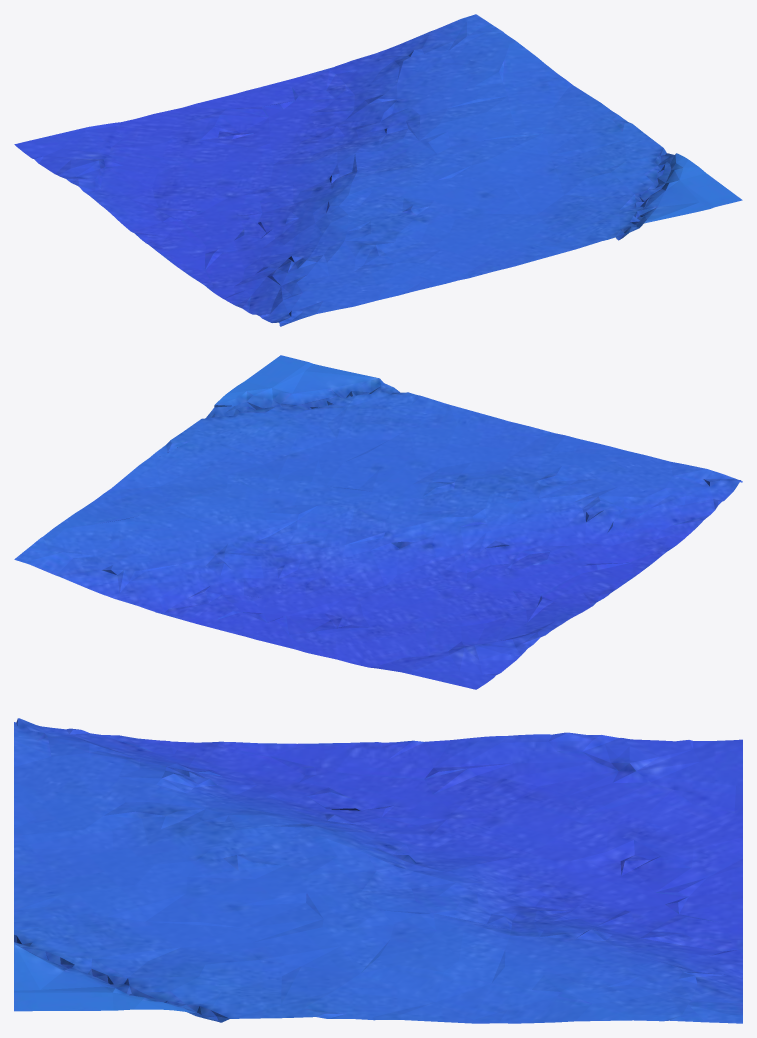
3 renders of one model, top to bottom at view 1: azimuth 30°, elevation 25°; view 2: azimuth 150°, elevation 25°; view 3: azimuth 270°, elevation 25°, orthographic. The views are drawn at different scales.
Bounding box in the file's own units: 13.06 × 0.8877 × 13.06.
2 materials, 2 textured.
